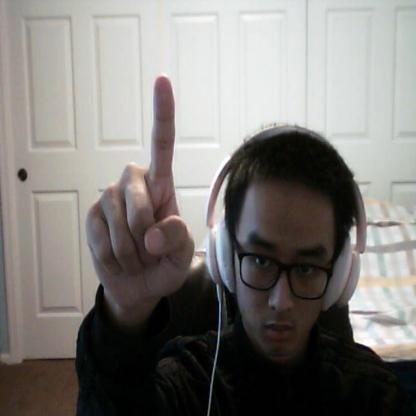finger_point: (148, 73, 176, 181)
